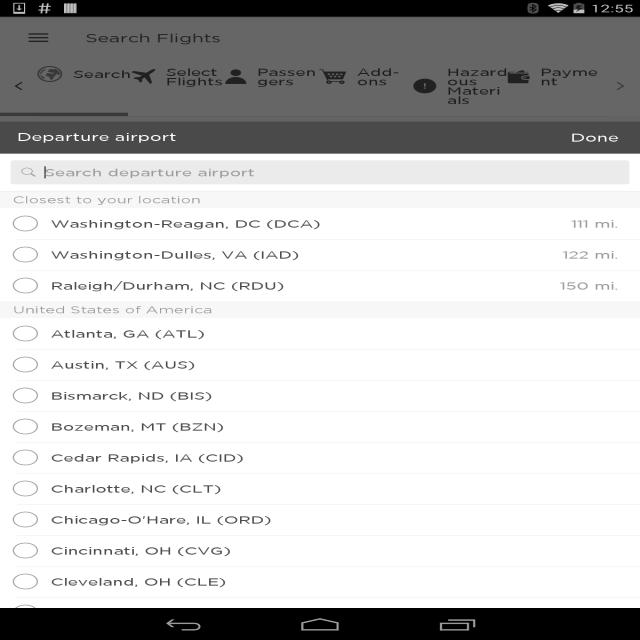CheckBox: (6, 474, 47, 501), (8, 383, 54, 405), (8, 319, 44, 343), (7, 570, 46, 592), (4, 241, 41, 263)
EditText: (3, 156, 634, 187)
ImageButton: (21, 29, 56, 48)
TextView: (48, 274, 295, 294), (48, 446, 250, 469), (50, 540, 234, 560), (49, 216, 321, 229), (14, 130, 180, 146), (80, 30, 240, 46), (48, 356, 202, 372), (161, 62, 224, 88), (554, 244, 627, 264), (562, 127, 628, 149), (558, 213, 622, 232), (552, 277, 622, 293), (356, 66, 404, 86)
